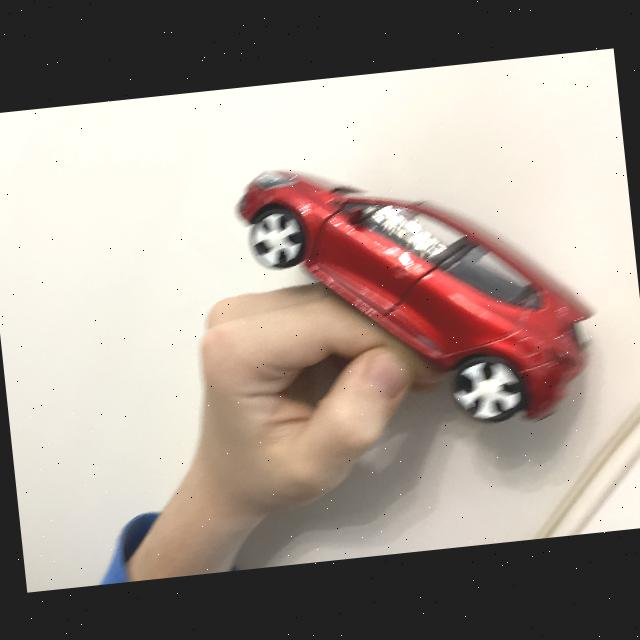Yanlis_Jant: (456, 361, 522, 418), (246, 208, 306, 268)
